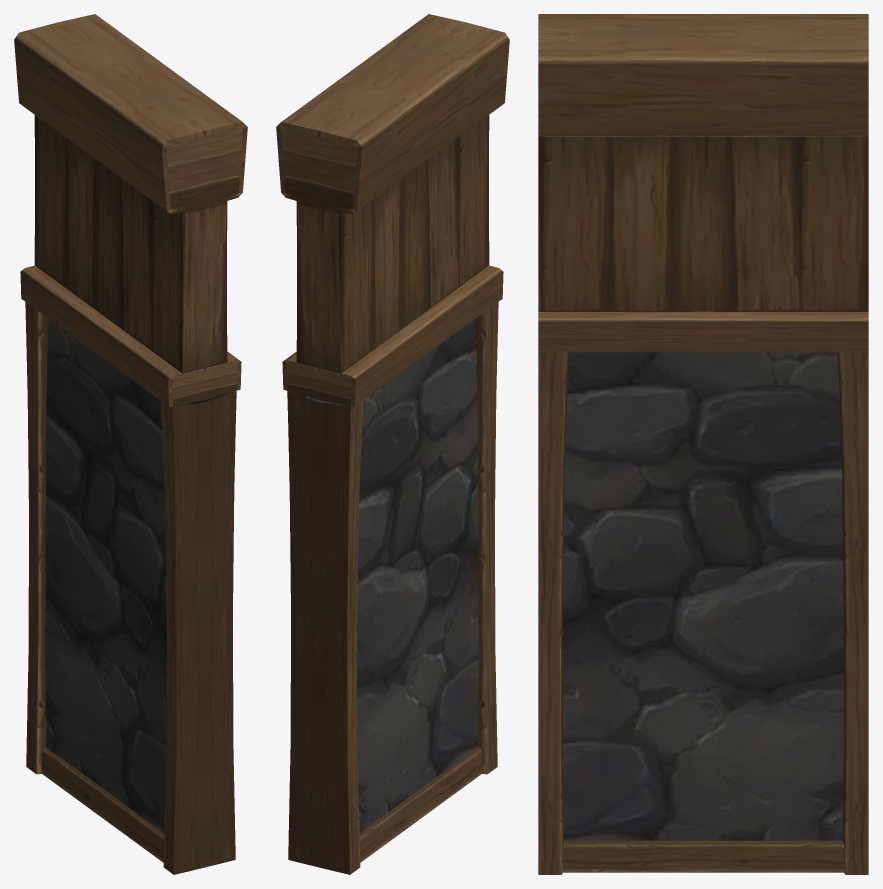
3 views of the same model, side by side, from view 1: azimuth 30°, elevation 25°; view 2: azimuth 150°, elevation 25°; view 3: azimuth 270°, elevation 25° (orthographic). The views are drawn at different scales.
Size of the model in its own units: 1.35 by 11.01 by 4.
Materials: 5 (5 with a texture image).
